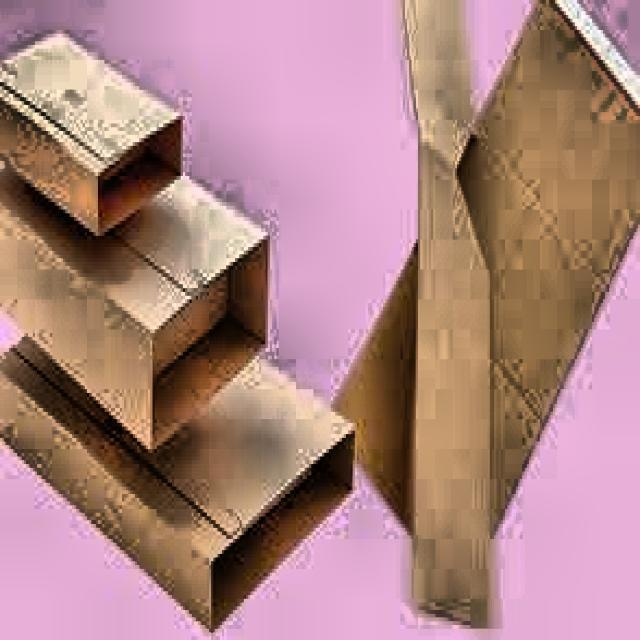cardboard: (331, 0, 638, 625)
